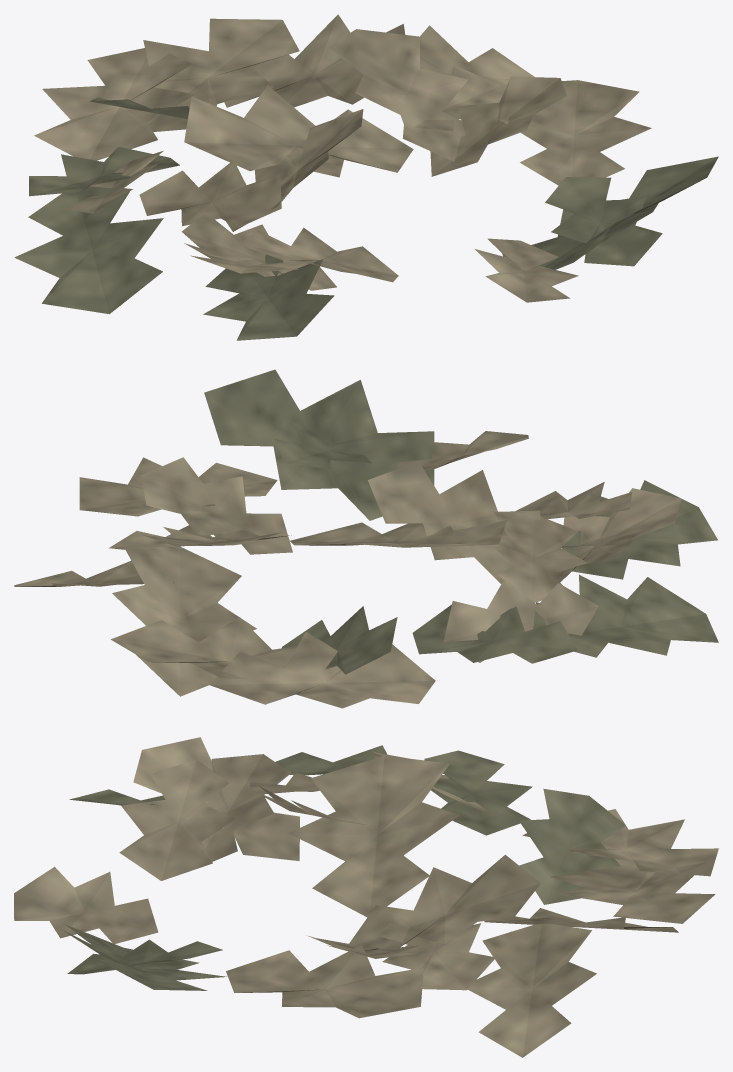
File: leaf_heap_02.glb
3 renders of one model, top to bottom at view 1: azimuth 30°, elevation 25°; view 2: azimuth 150°, elevation 25°; view 3: azimuth 270°, elevation 25°, orthographic. The views are drawn at different scales.
Visible parts, largest first — view 1: leaf_heap_02; view 2: leaf_heap_02; view 3: leaf_heap_02.
Part boxes in pixels (<box>): leaf_heap_02: <box>14,14,718,340</box>; leaf_heap_02: <box>14,369,718,708</box>; leaf_heap_02: <box>14,737,718,1057</box>.
Bounding box in the file's own units: 0.7586 × 0.136 × 0.7434.
Materials: 1 (1 with a texture image).
